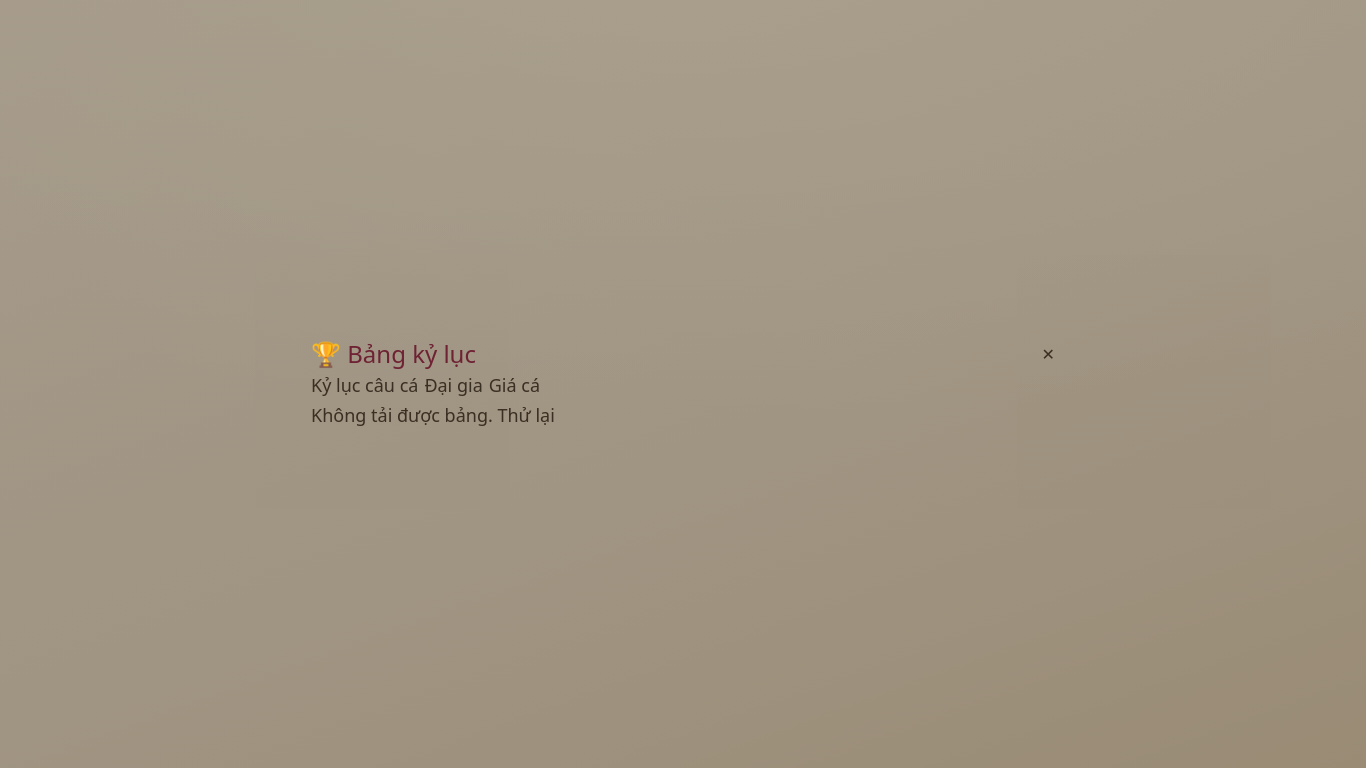
RecordsPanel › offers a retry when the board does not load
Click the button "Thử lại".
click(526, 415)  # box [498,404,555,426]
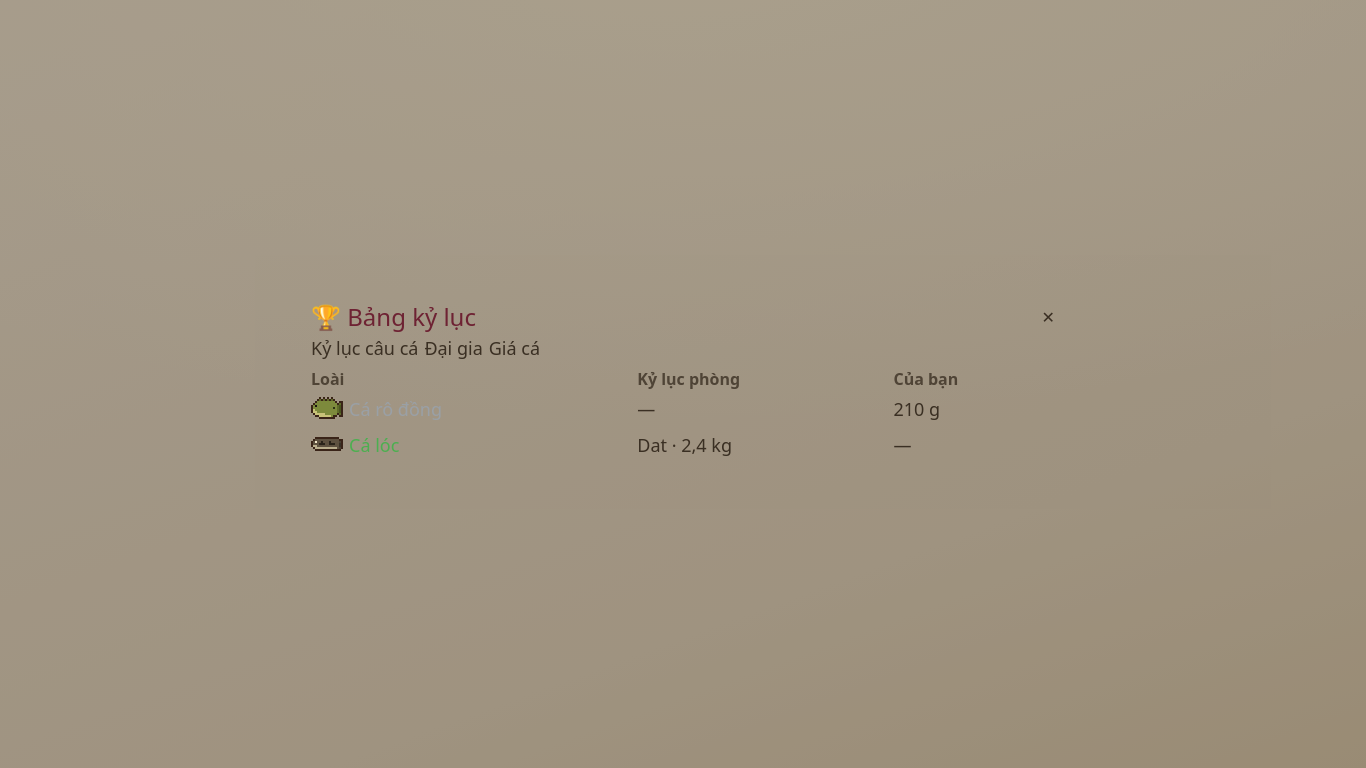
Expected: the text "Dat · 2,4 kg" is shown, [637,427,894,463]
